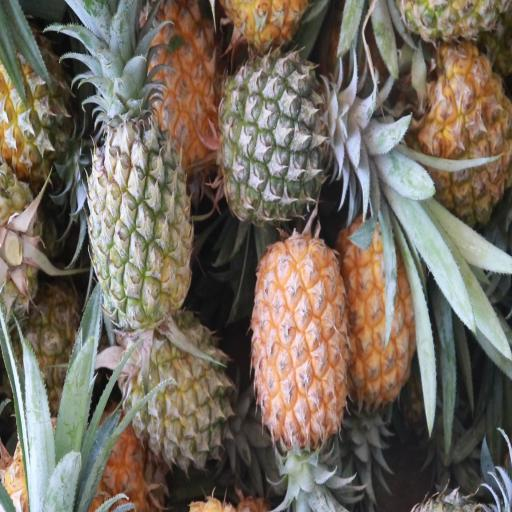------------------------------: (91, 118, 192, 318), (126, 318, 228, 465)
Pineapple - v8 v1: (254, 235, 348, 440), (421, 46, 511, 218), (341, 217, 419, 398), (139, 0, 222, 166)
